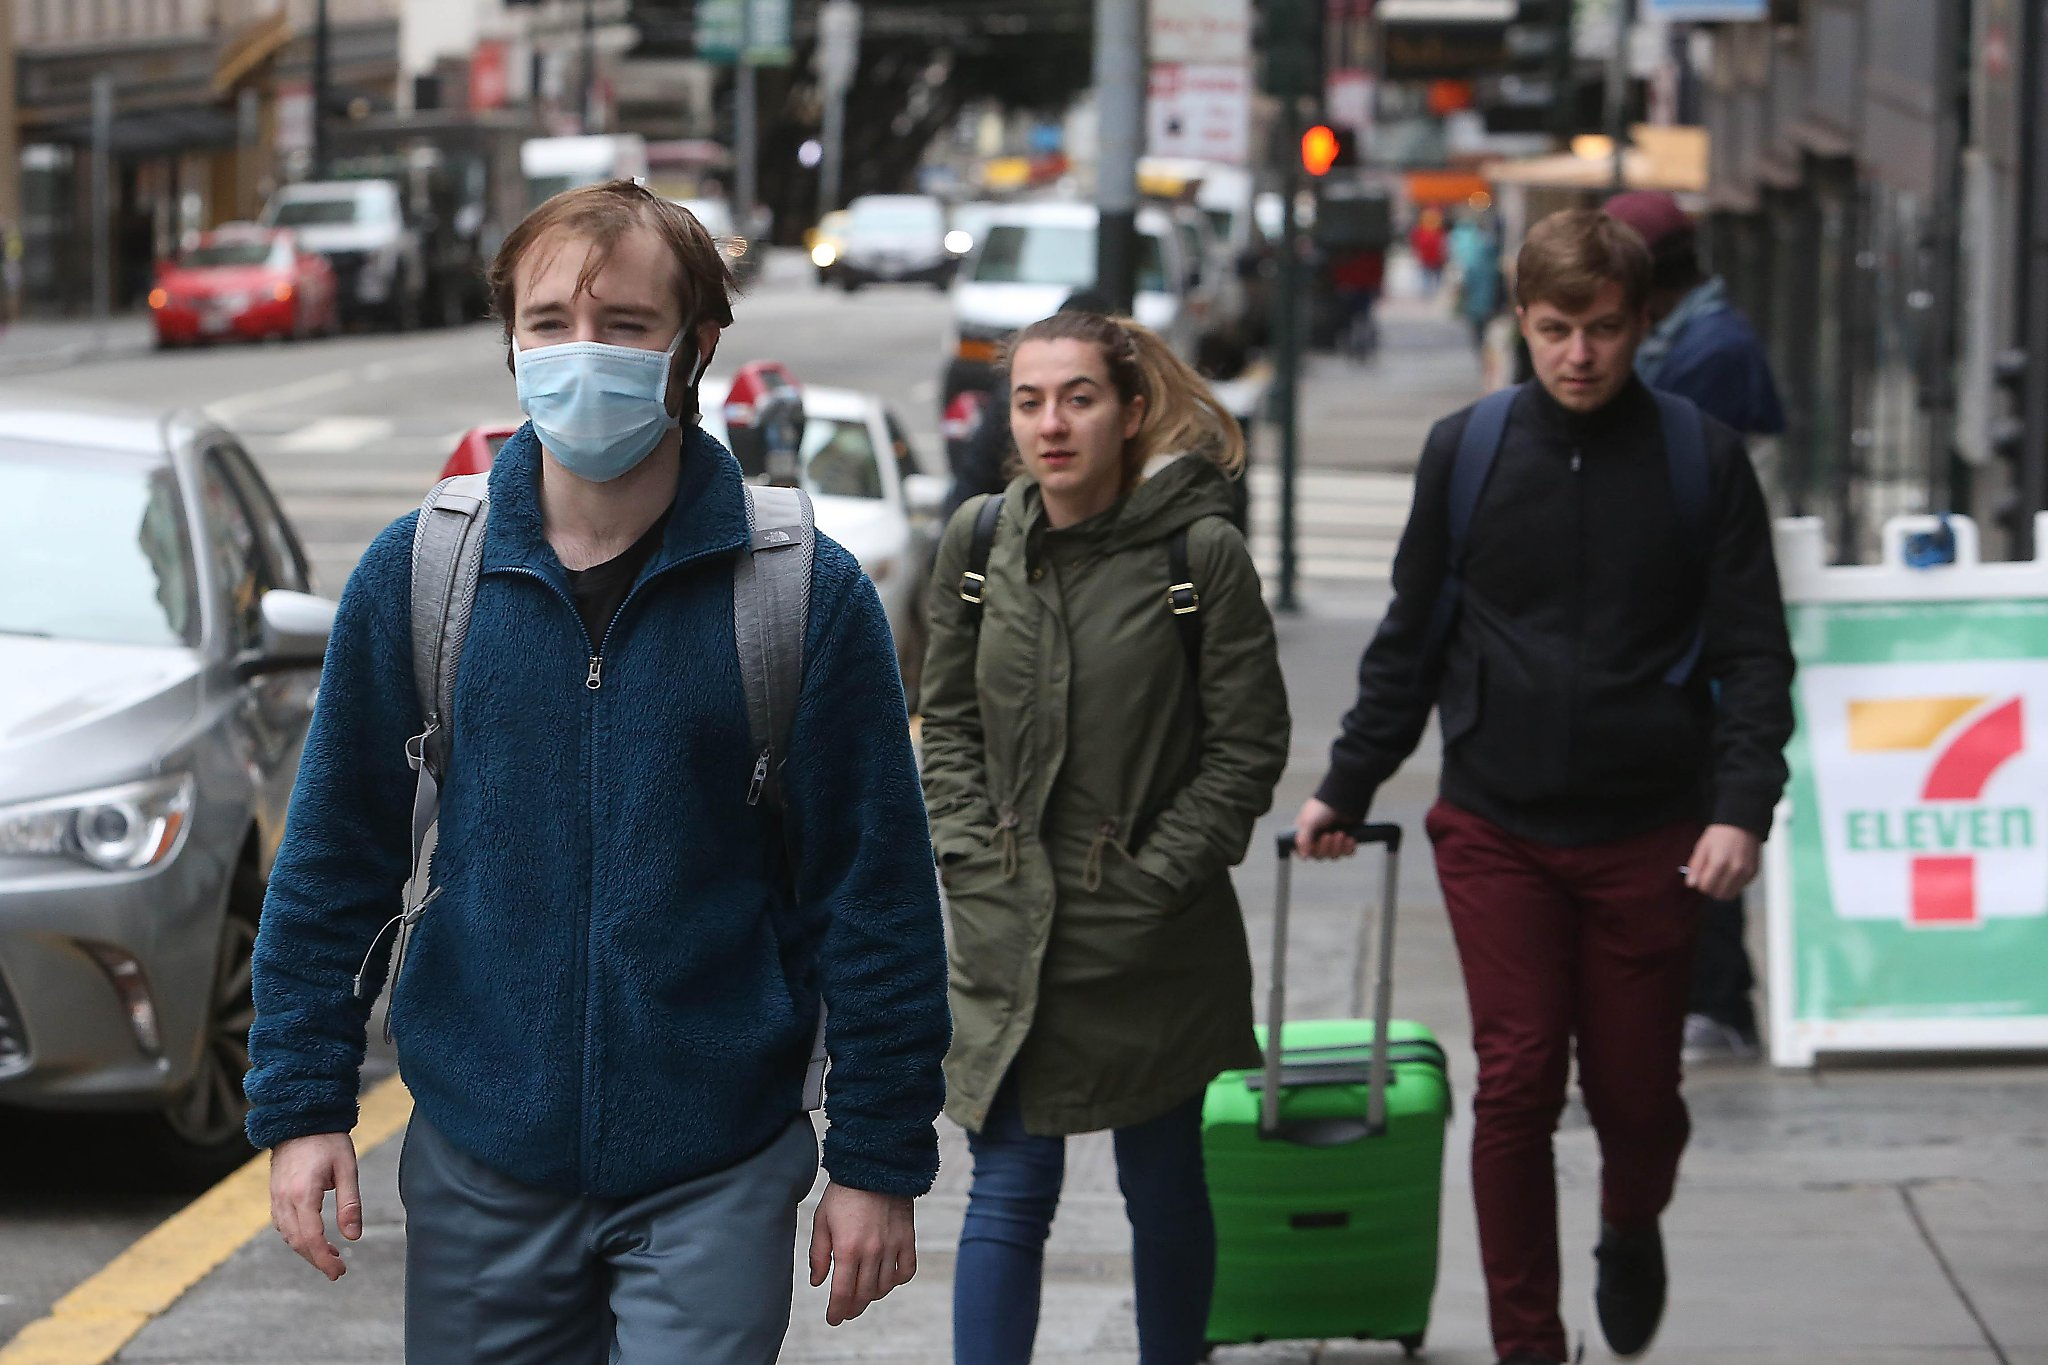with_mask: (517, 282, 684, 455)
without_mask: (1015, 365, 1120, 477), (1534, 300, 1628, 394)
